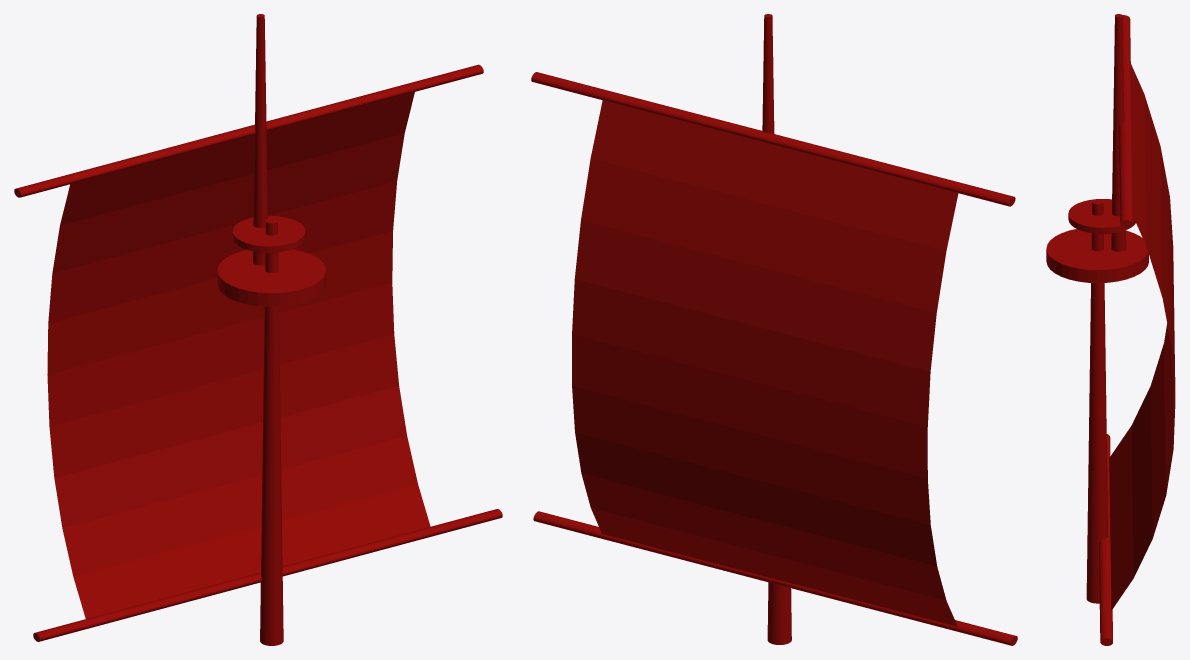
File: MastilMesana_Model.fbx
The picture shows the model from 3 angles, left to right: view 1: azimuth 30°, elevation 25°; view 2: azimuth 150°, elevation 25°; view 3: azimuth 270°, elevation 25°; orthographic projection. The views are drawn at different scales.
Parts seen in each view (by area): view 1: MastilMesana; view 2: MastilMesana; view 3: MastilMesana.
Part boxes in pixels (box(x1,y1,x2,y2)): MastilMesana: box(14, 14, 502, 645); MastilMesana: box(531, 14, 1017, 645); MastilMesana: box(1046, 14, 1175, 645).
Size of the model in its own units: 599 by 747 by 150.
